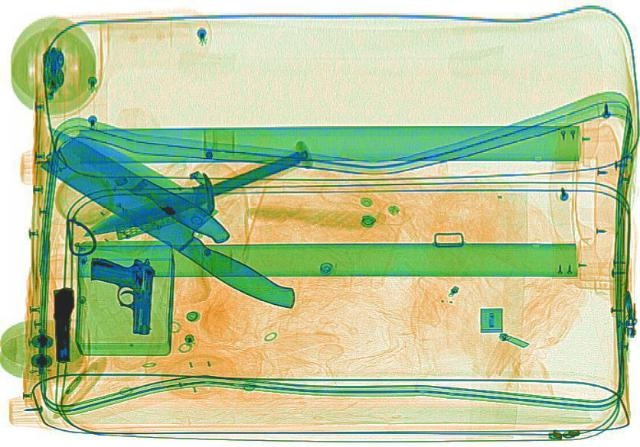Gun: (86, 257, 156, 334), (52, 286, 74, 362)
Knife: (30, 127, 330, 316), (35, 117, 236, 244), (74, 150, 308, 241)
